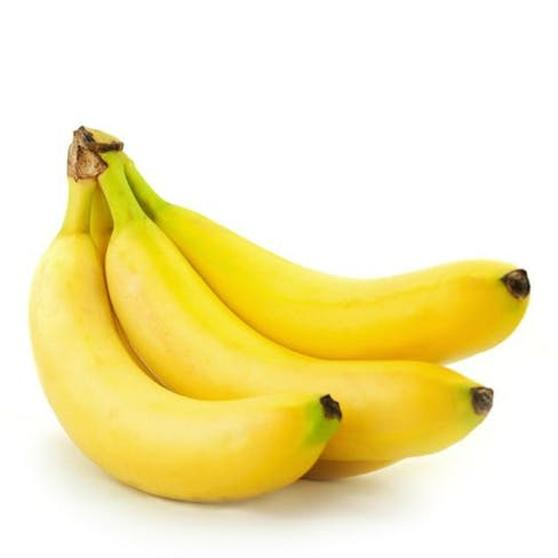banana: (24, 196, 344, 520), (103, 206, 547, 366)
